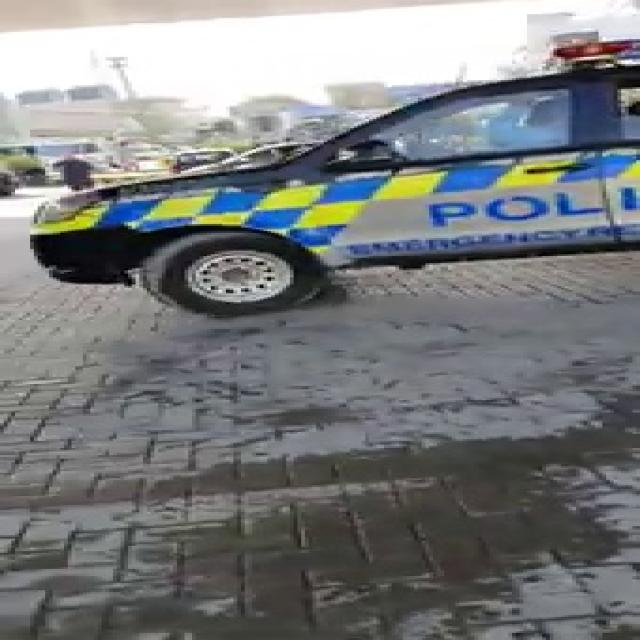police: (0, 14, 640, 300)
